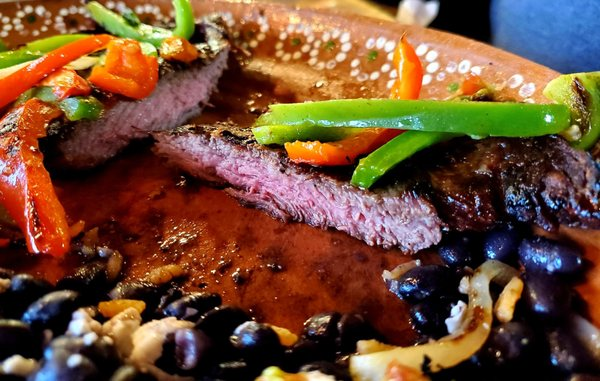pizza: (0, 34, 114, 113)
